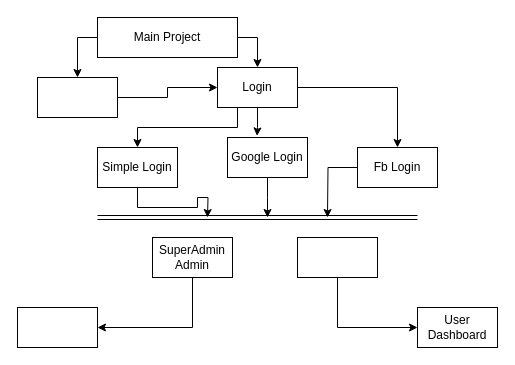
The diagram is 515 pixels wide and 365 high, and some of its shapes have lost their labels. Here are the shapes that lost their labels. From the top down, the centre of each, then its label:
At (x=77, y=97): "Register".
At (x=337, y=257): "User".
At (x=57, y=327): "Admin Dashboard".
